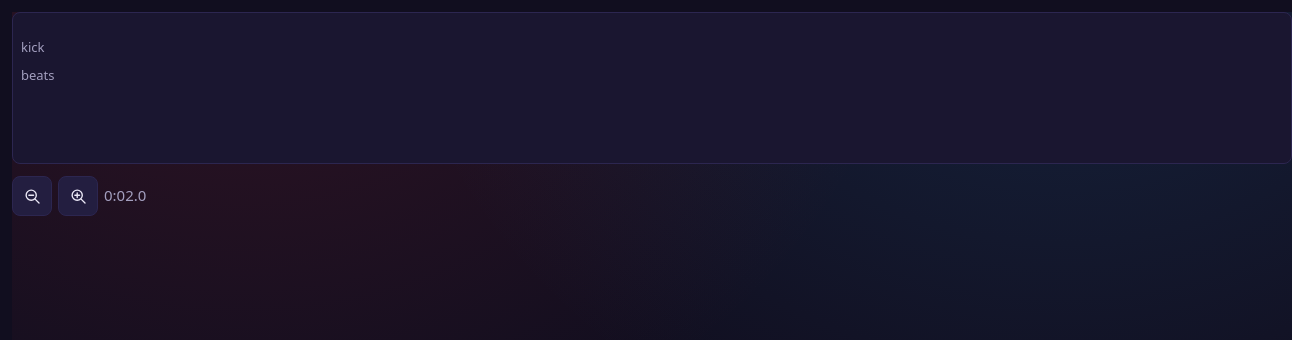
it: Timeline › shows a lane's count and span when its label is chosen
Click the button with aria-label "beats, 4 events" at (53, 75), box [21,61,85,89]
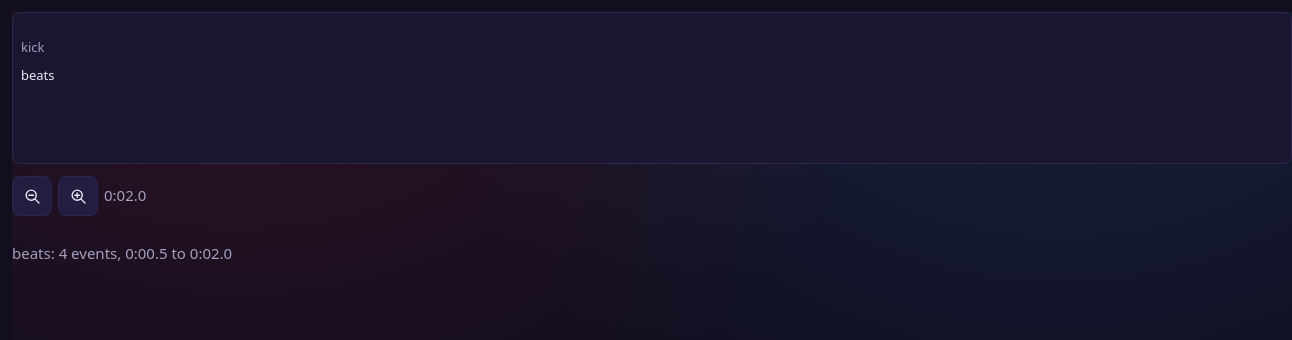
Expected: the text "beats: 4 events, 0:00.5 to 0:02.0" is shown, [12,243,232,263]
